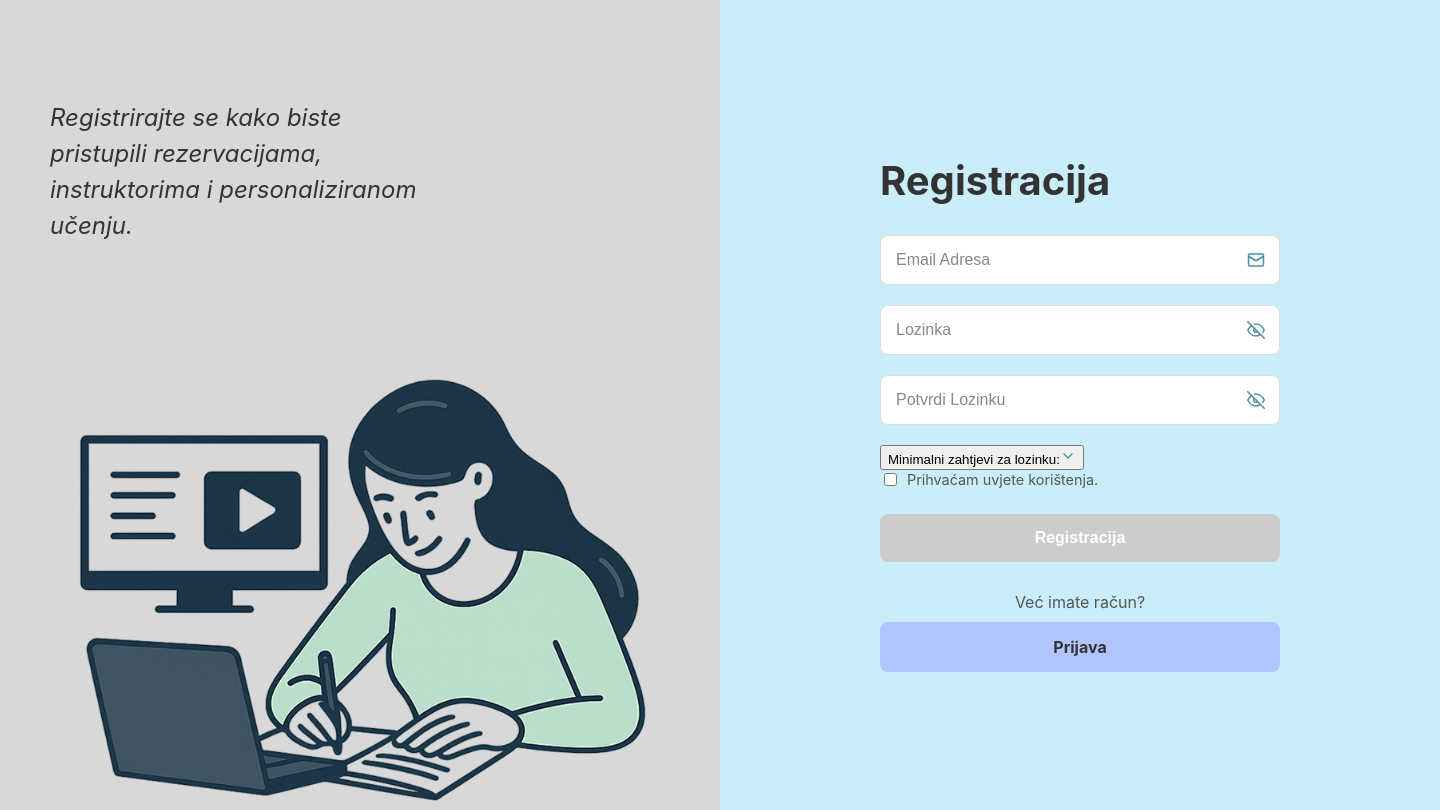
RegisterEmail component › Test 2: Neuspjesna registracija zbog već postojeće adrese prikazuje error
The image size is (1440, 810).
Type "postoji@test.com" into the field with placeholder "Email Adresa" at (1080, 260), box [880,235,1280,285]
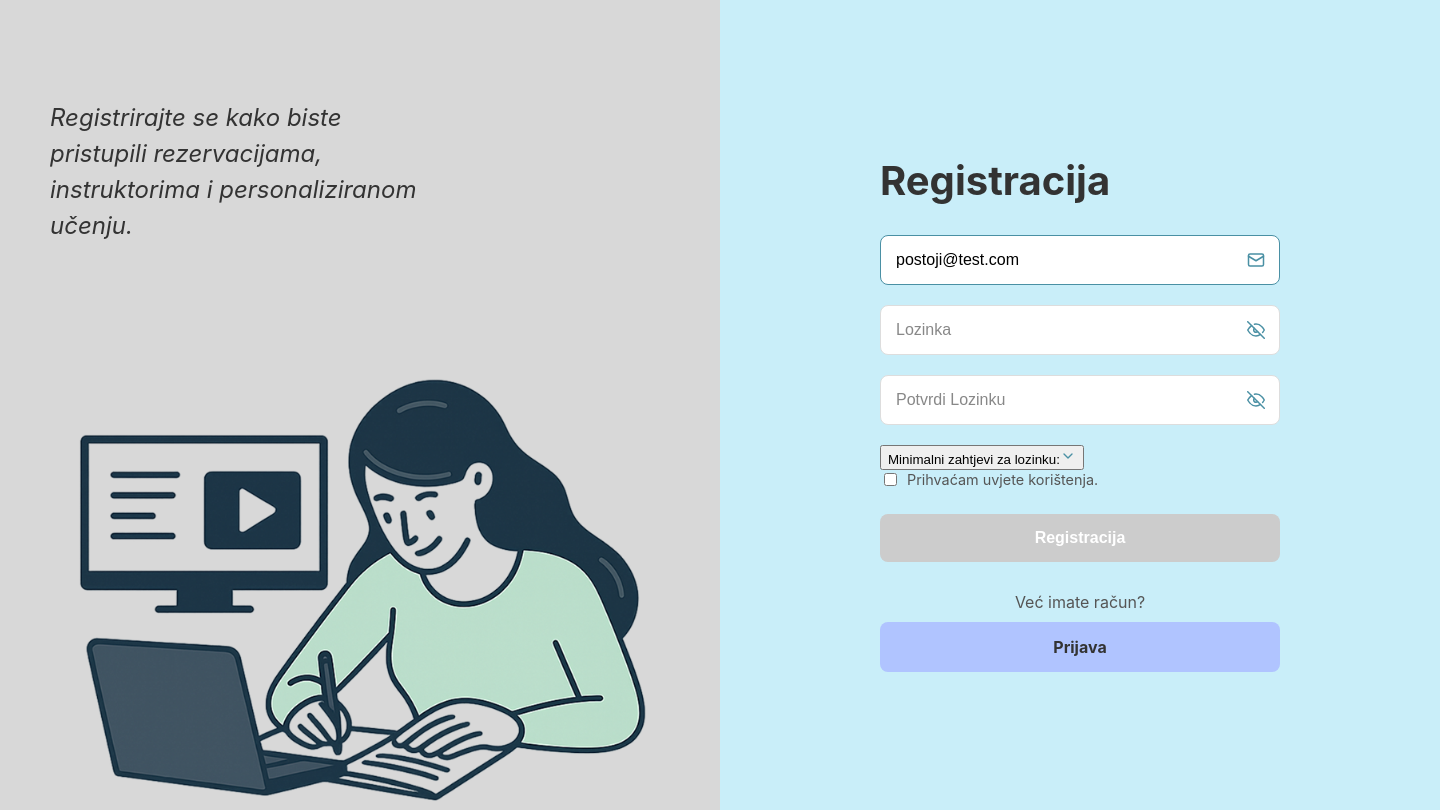
Type "Password123" into the password field with placeholder "Lozinka" at (1080, 330), box [880,305,1280,355]
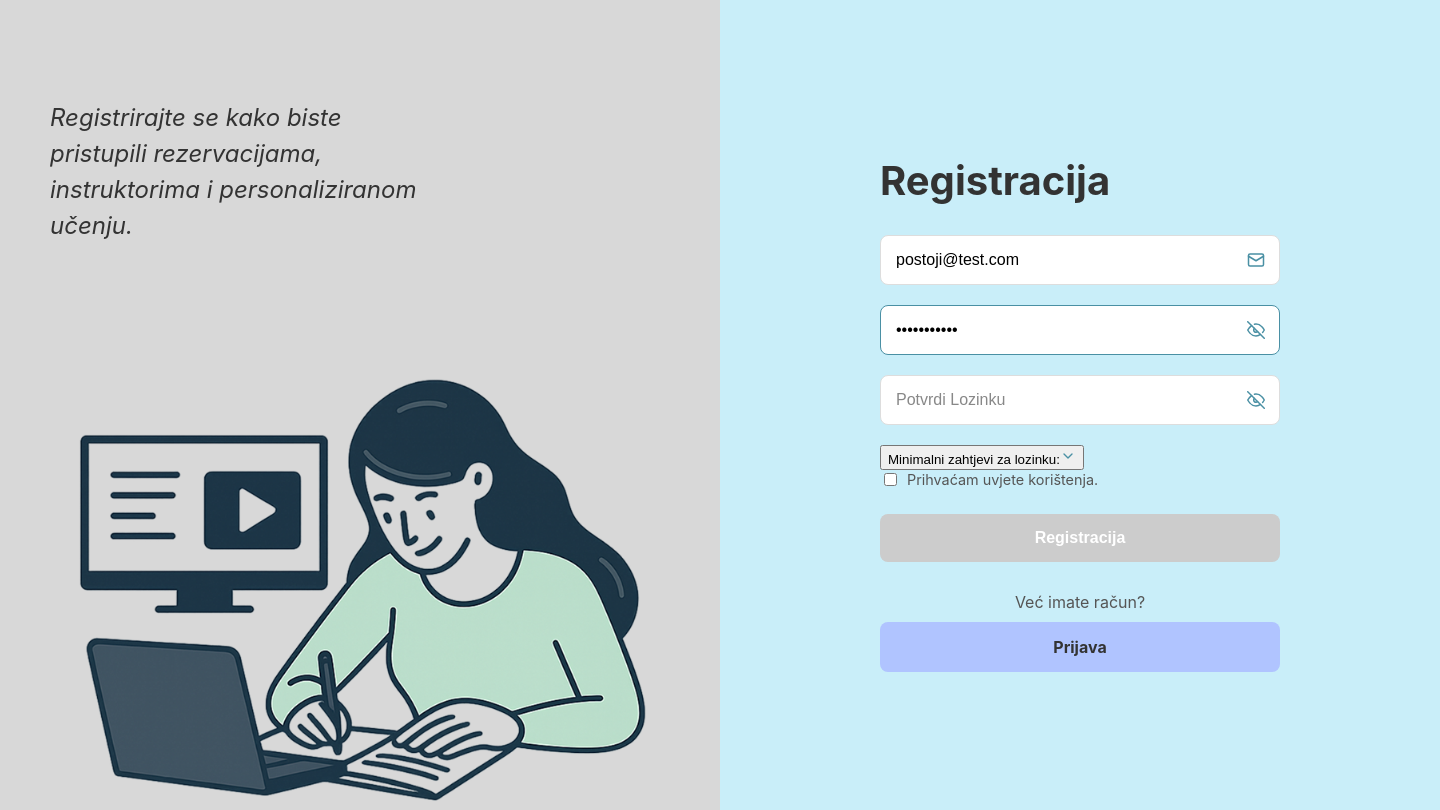
Type "Password123" into the password field with placeholder "Potvrdi Lozinku" at (1080, 400), box [880,375,1280,425]
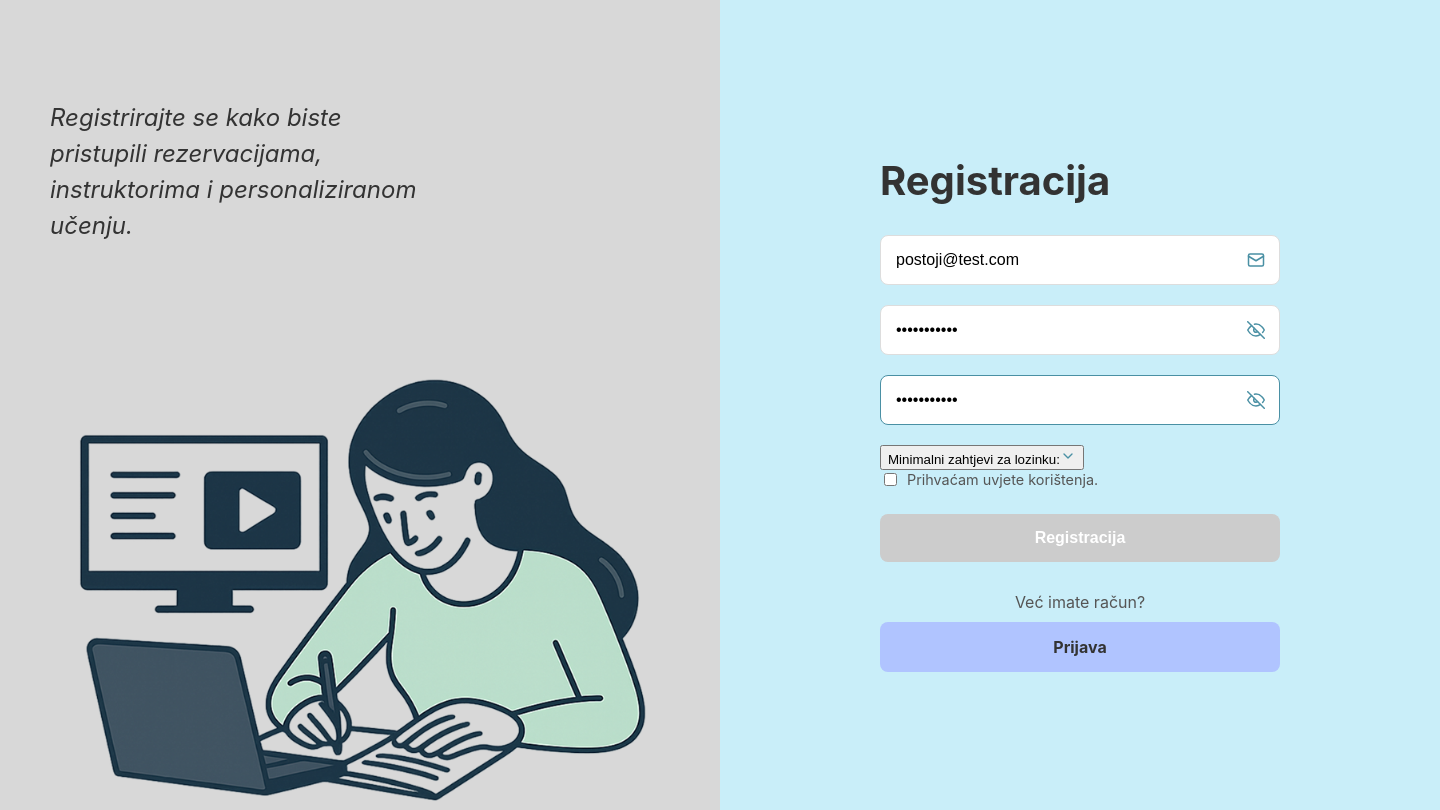
Click the checkbox labelled "Prihvaćam uvjete korištenja." at (890, 480), box [884,473,897,486]
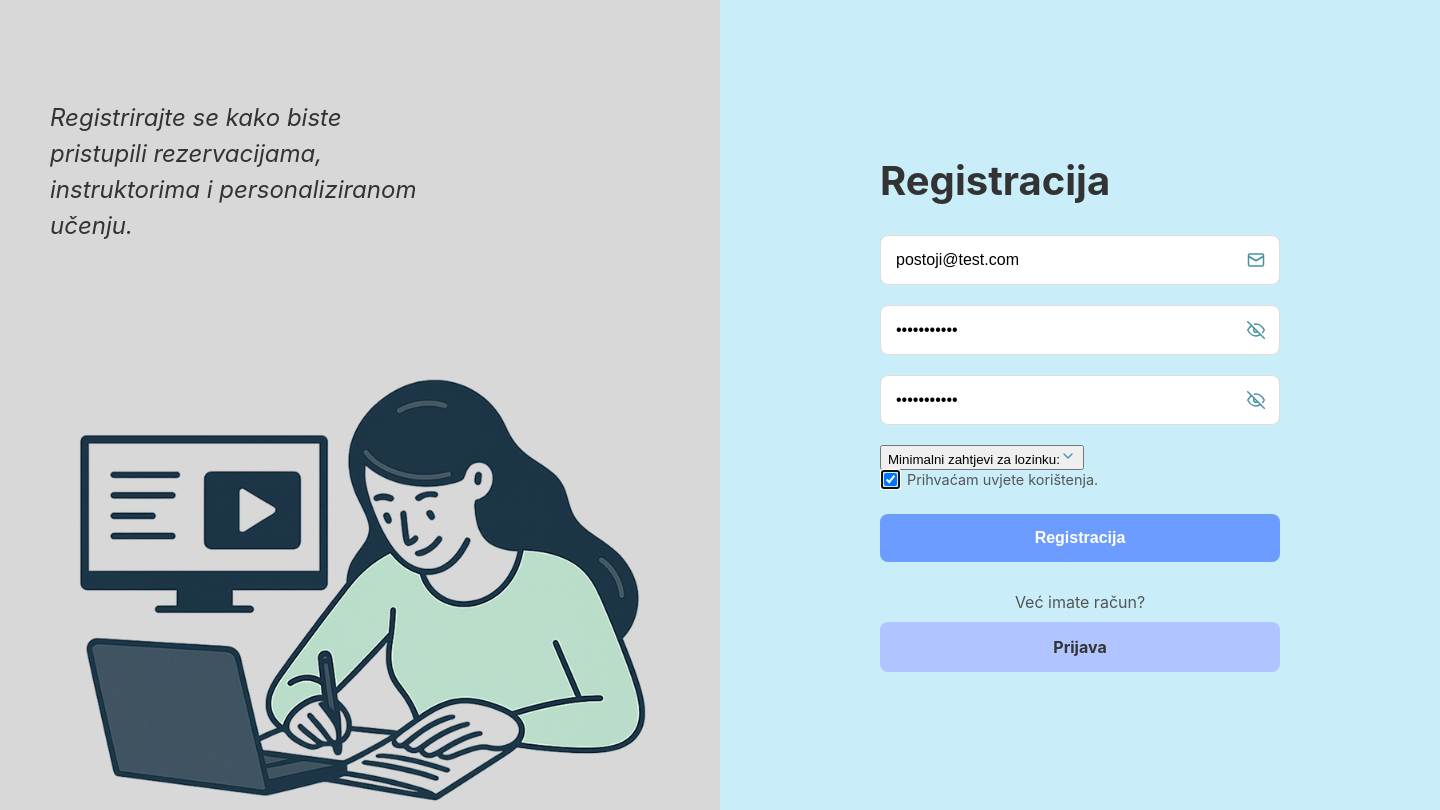
Click the button "Registracija" at (1080, 538), box [880,514,1280,562]
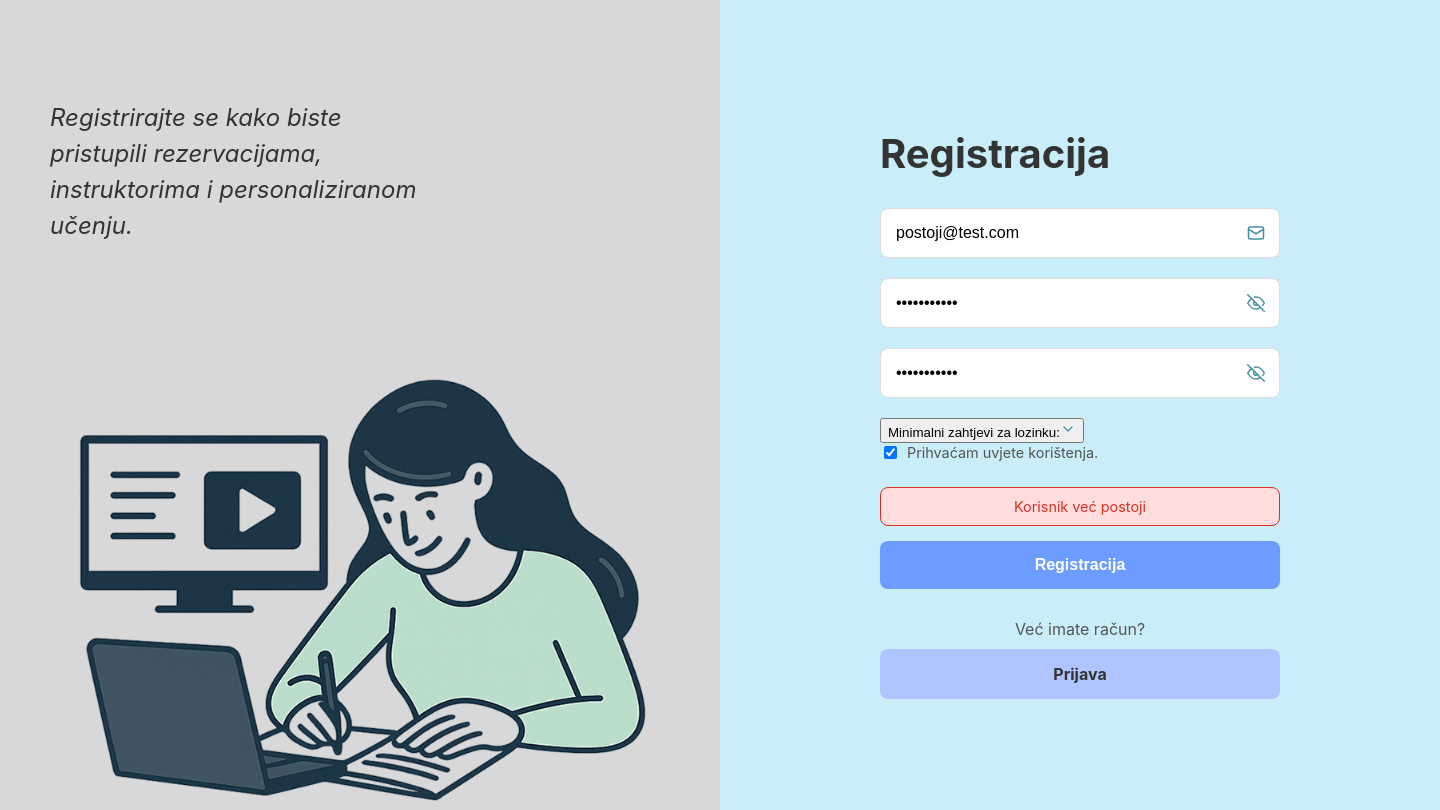
Expected: the text "Korisnik već postoji" is shown, [880,487,1280,526]
